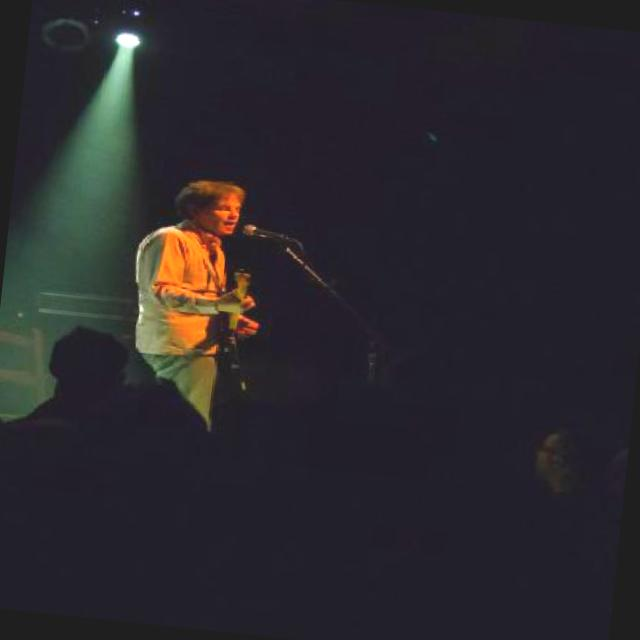Person: (110, 162, 270, 419)
